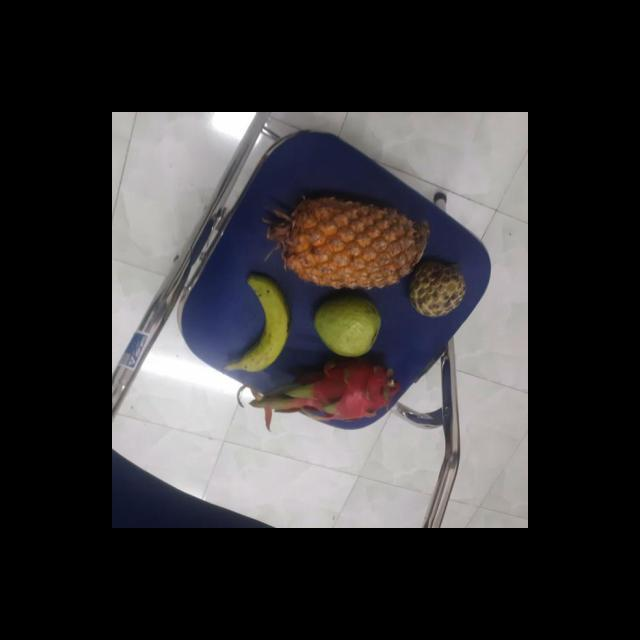Sakya fruit: (404, 260, 466, 317)
banana: (228, 277, 290, 373)
guava: (311, 295, 384, 359)
pineapple: (280, 198, 426, 288)
pitaya: (273, 352, 401, 426)
